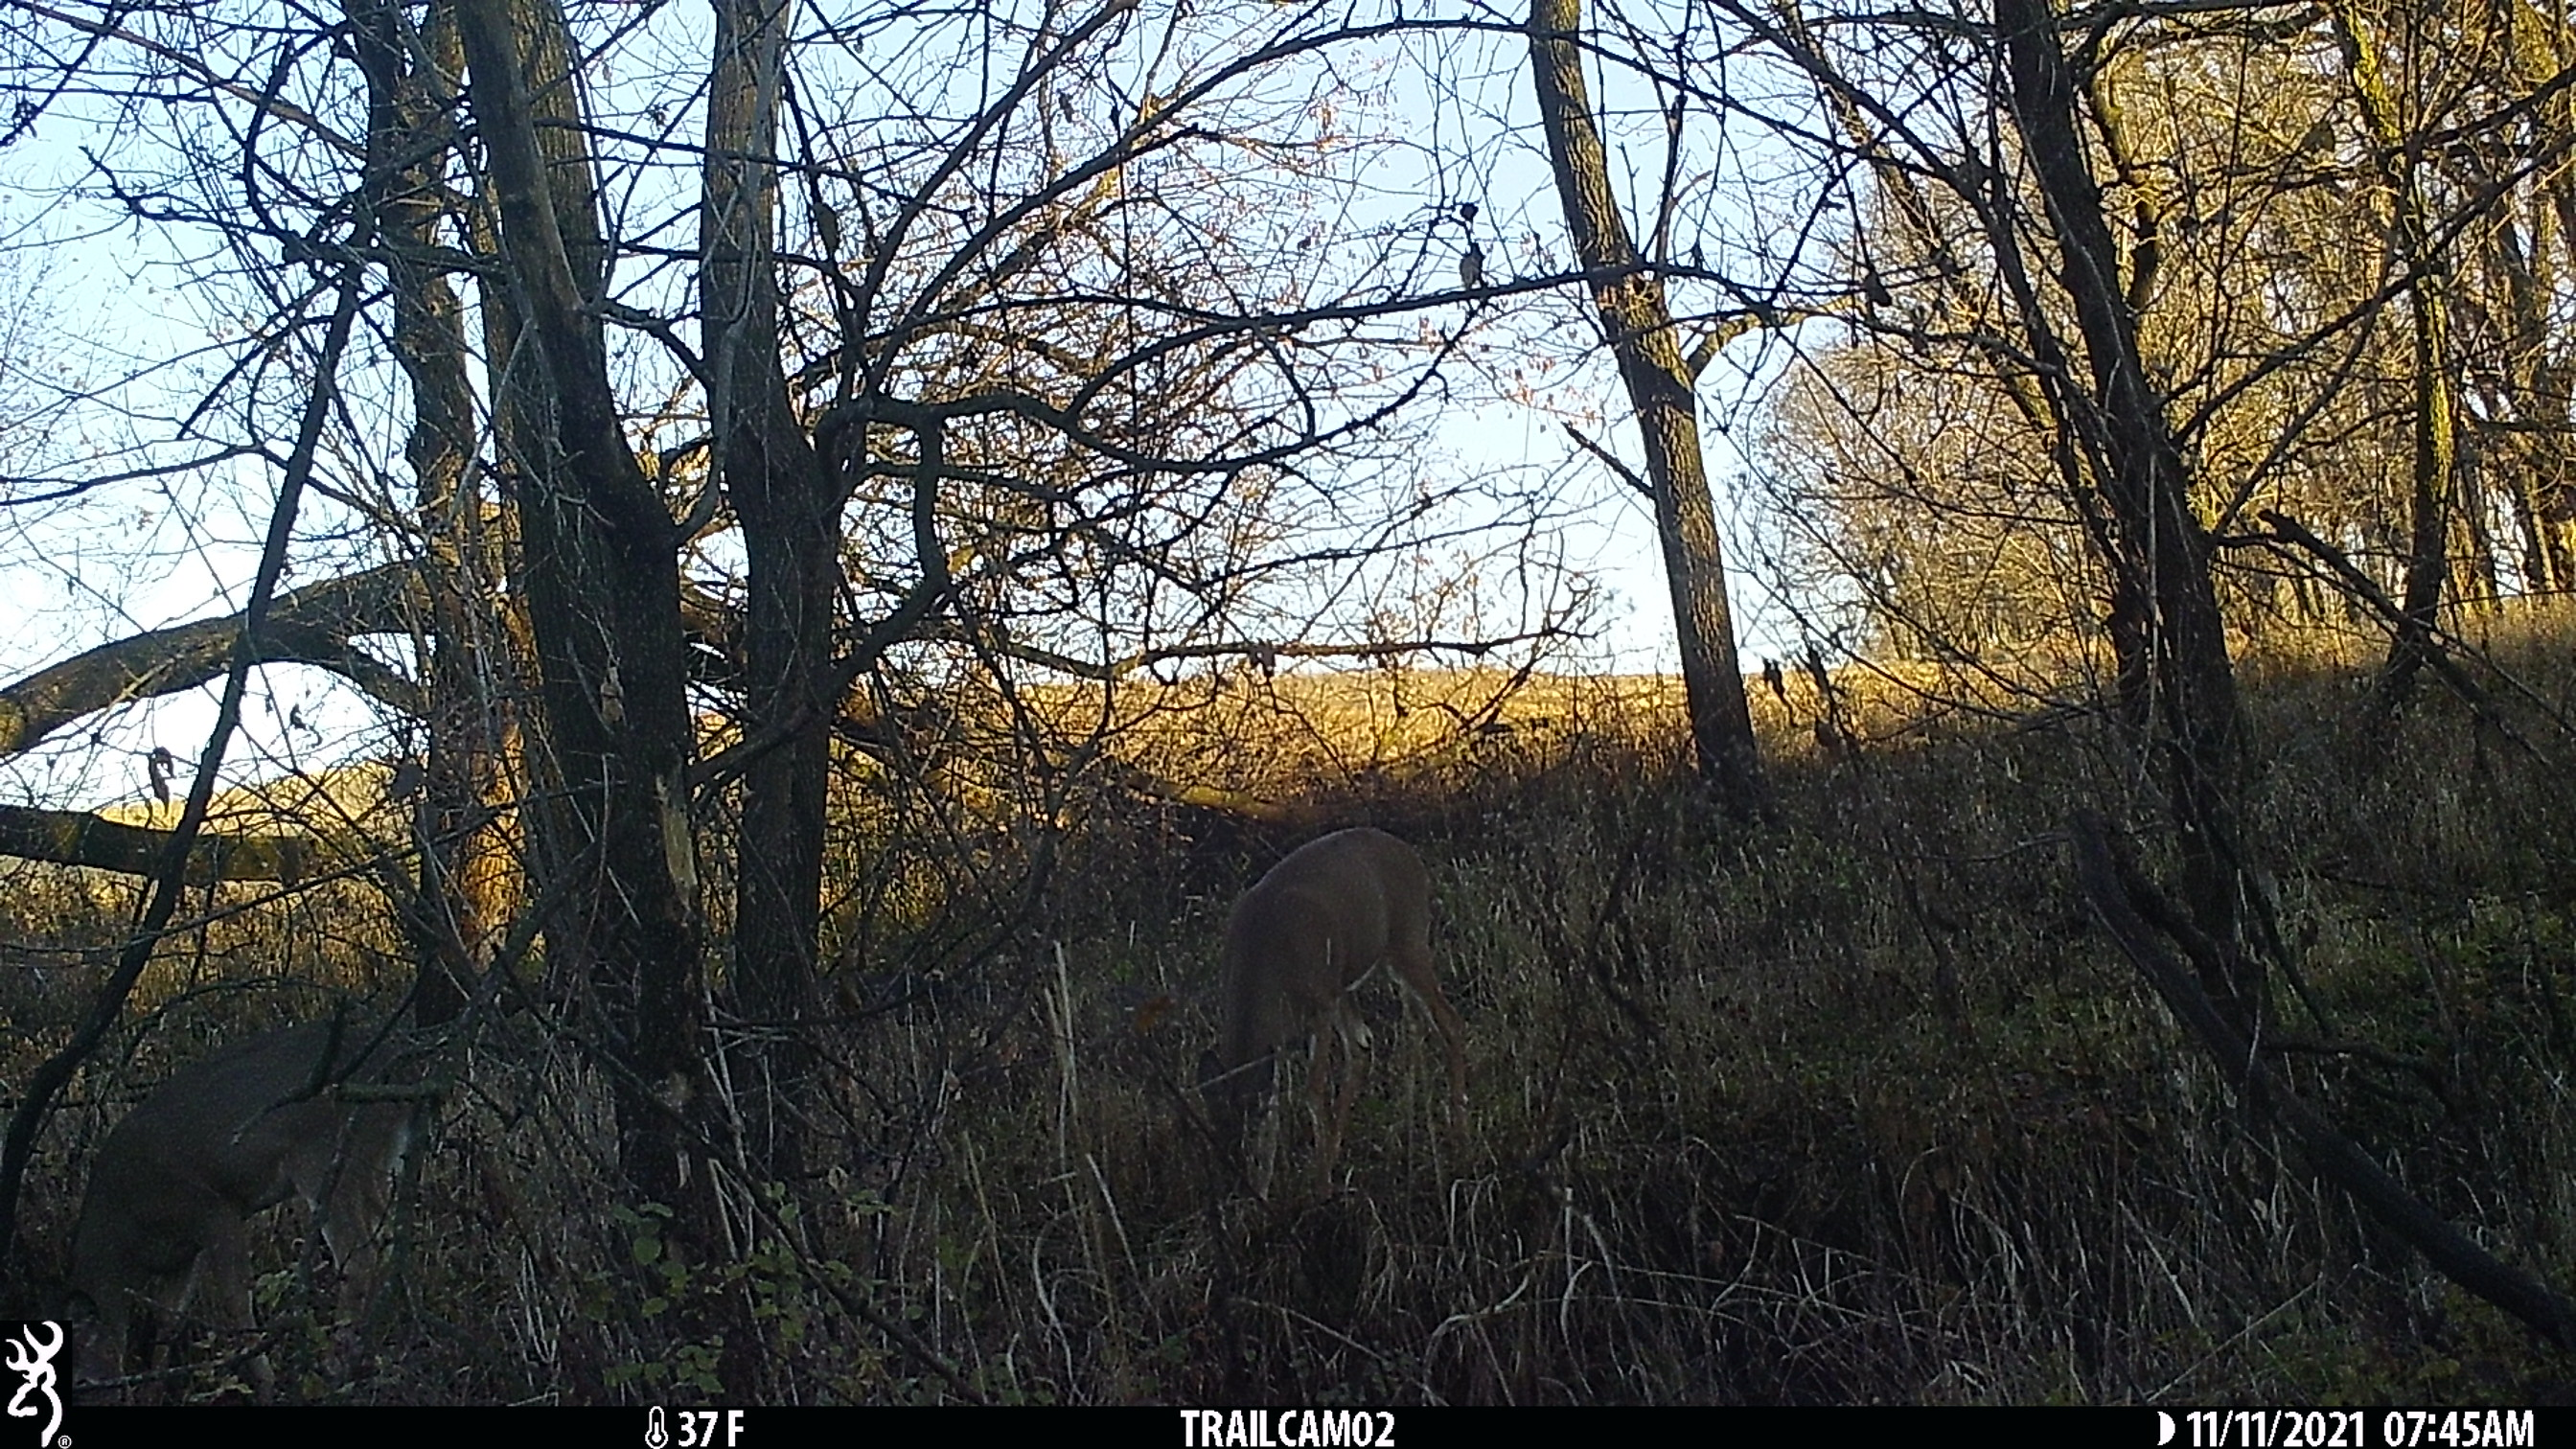Deer: (32, 1014, 446, 1392)
DeerDoe: (1182, 823, 1474, 1215)
